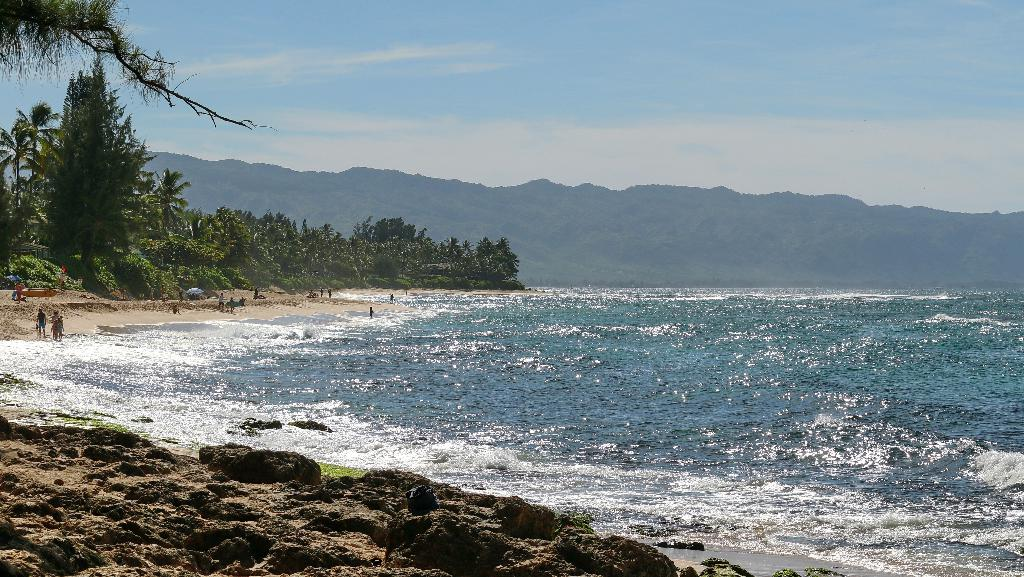Tree: (16, 46, 209, 318), (204, 203, 526, 282)
